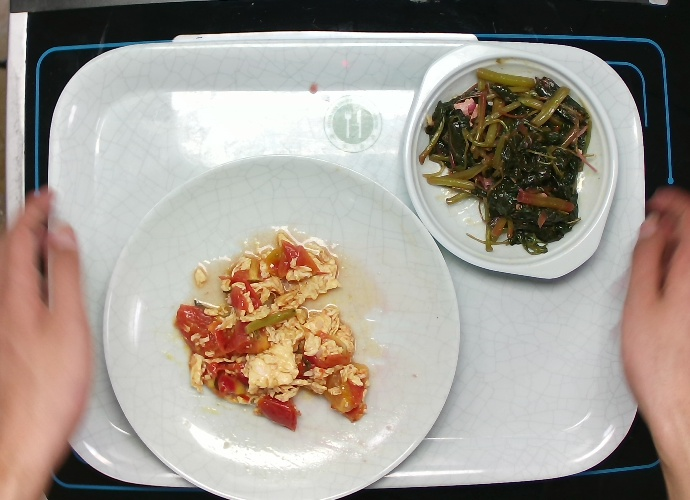JYsf-Da_Yuan_Pan: (101, 152, 462, 500)
JYsf-Shuang_Er_Pan: (400, 39, 621, 281)
